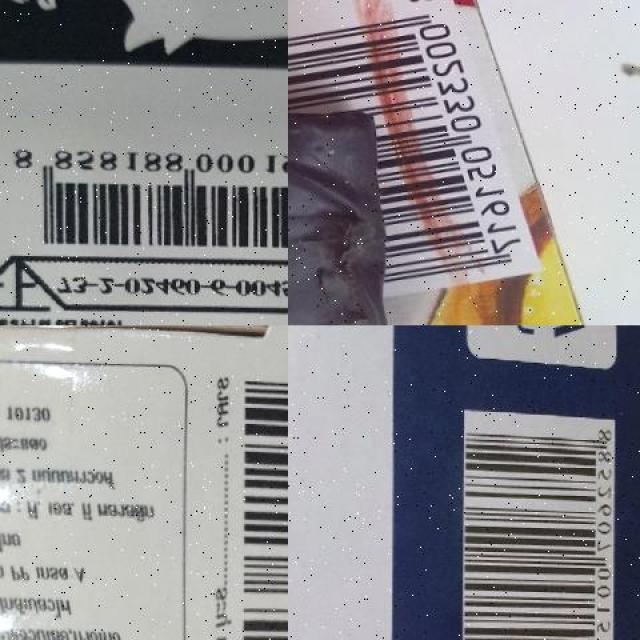Barcode: (288, 0, 543, 307), (459, 406, 613, 640), (7, 140, 288, 255), (233, 341, 288, 640)
